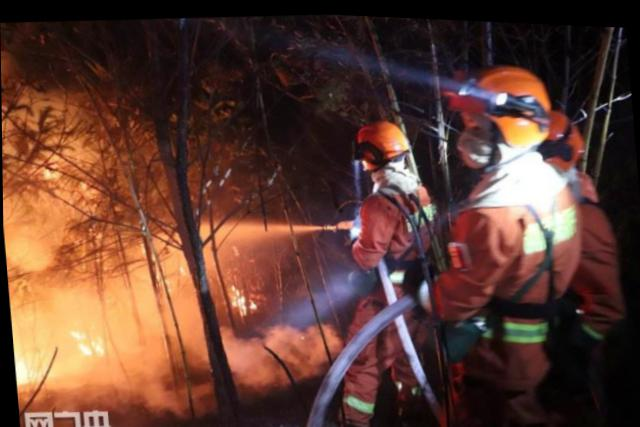fire: (64, 320, 108, 366), (226, 272, 261, 323), (15, 341, 51, 390)
